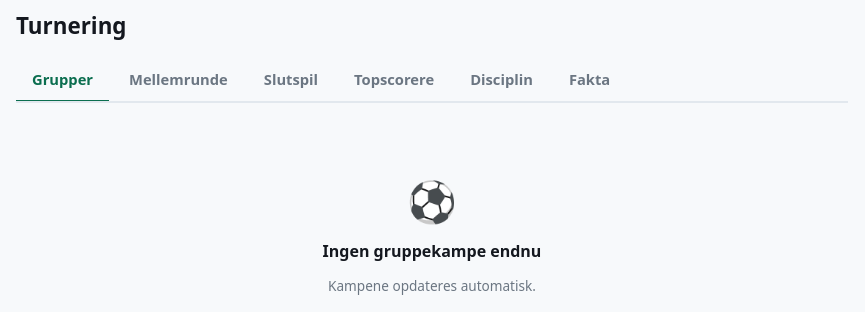
Test: TournamentPage – Mellemrunde-fane › viser placeholder TBD for ukendte hold
Click the tab "Mellemrunde". click: (178,81)
box: [113,59,244,103]
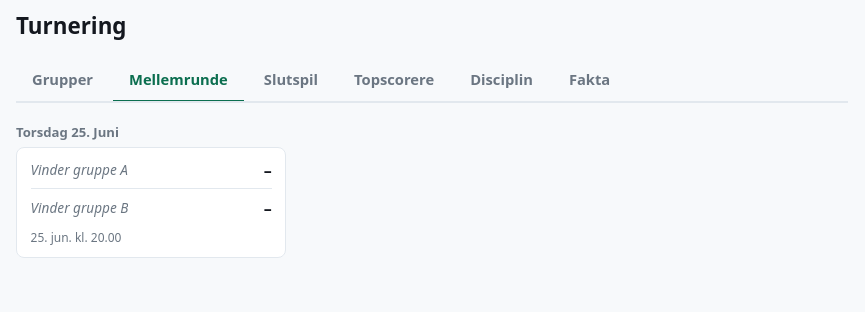
expect the text "Vinder gruppe A" is shown: met, box [31,160,128,180]
expect the text "Vinder gruppe B" is shown: met, box [31,198,128,218]
